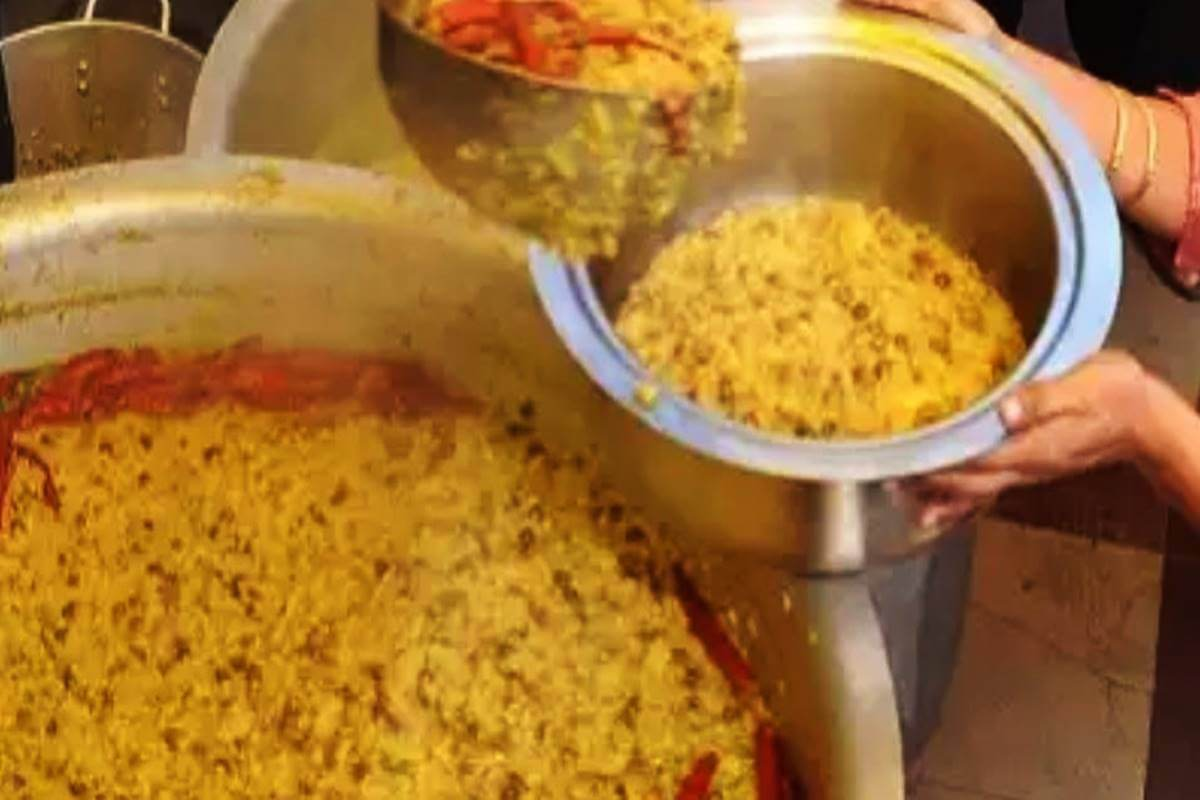rice: (3, 347, 796, 800), (596, 103, 1049, 488)
